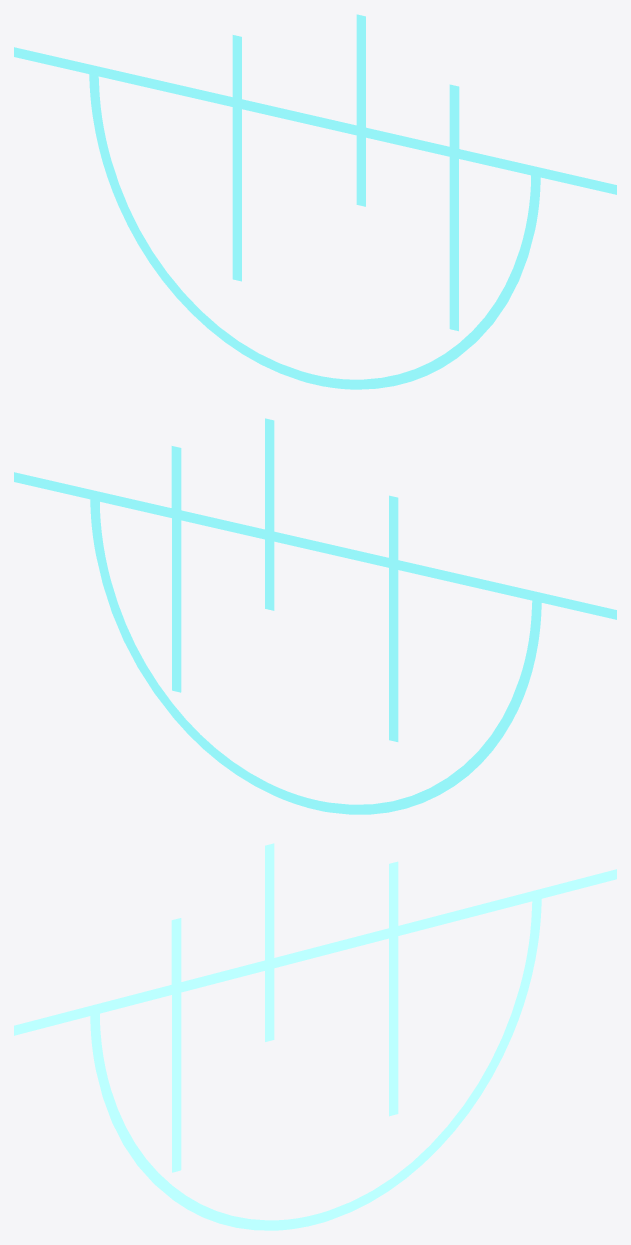
Rendered from Rune_Glow_8.fbx.
3 views of the same model, one above another, from view 1: azimuth 30°, elevation 25°; view 2: azimuth 210°, elevation 25°; view 3: azimuth 270°, elevation 25° (orthographic). The views are drawn at different scales.
Parts seen in each view (by area): view 1: Rune8; view 2: Rune8; view 3: Rune8.
Part boxes in pixels (x1,y1,x2,y2): Rune8: [14, 14, 616, 389]; Rune8: [14, 418, 616, 814]; Rune8: [14, 843, 616, 1230].
Bounding box in the file's own units: 0.3711 × 0.4333 × 0.604.
